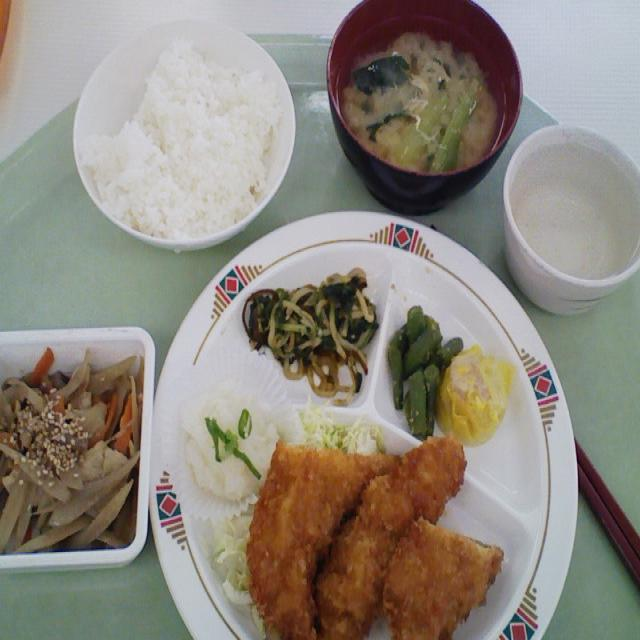Rice: (82, 34, 290, 240)
